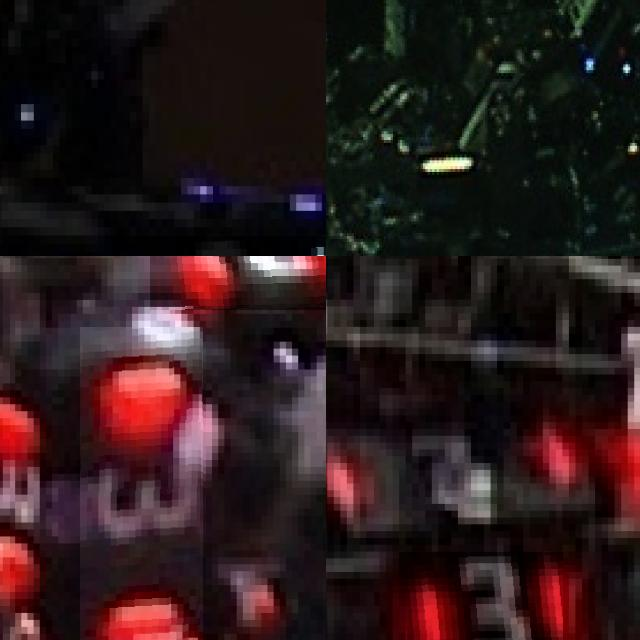R3: (80, 327, 203, 640), (399, 551, 562, 640), (150, 256, 326, 310), (0, 379, 39, 616)
